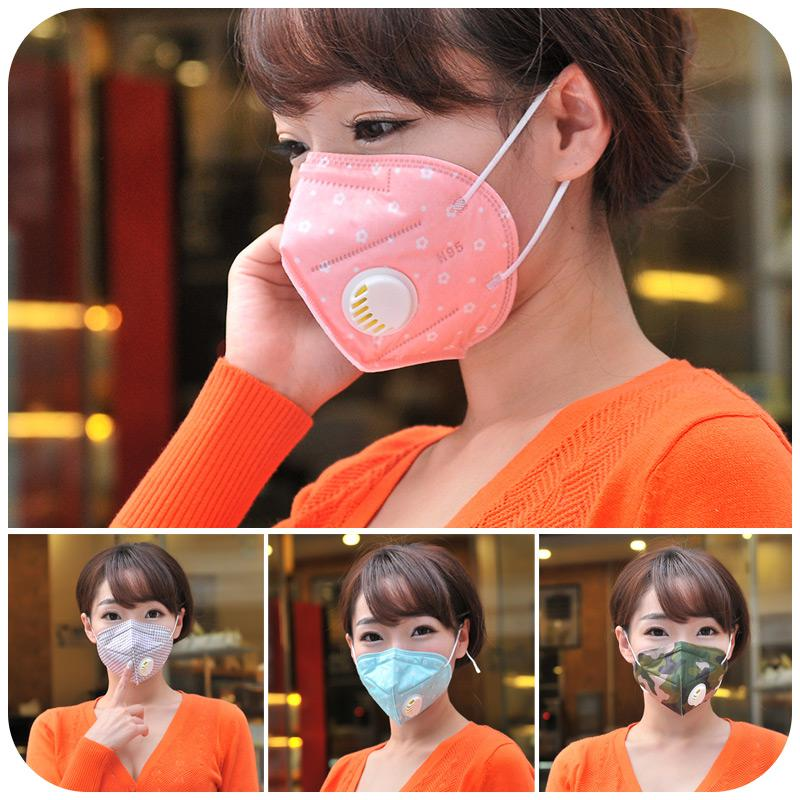OK: (253, 37, 553, 337), (628, 607, 733, 712), (349, 610, 453, 714), (90, 591, 181, 682)
